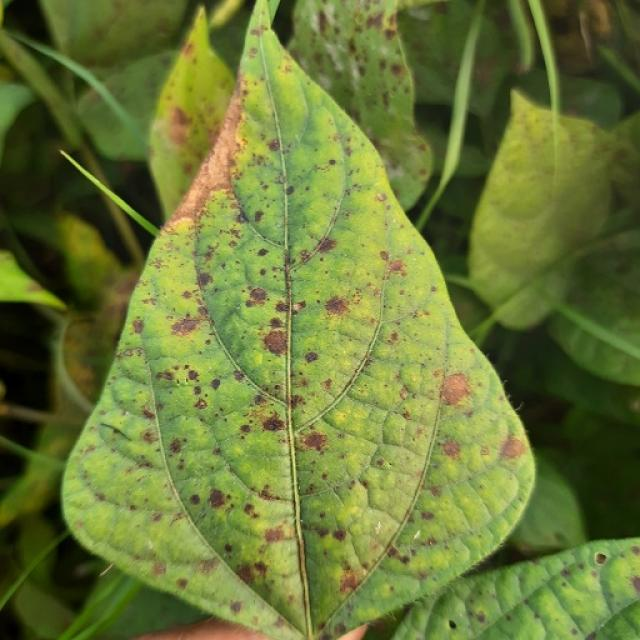Anthracnose: (259, 324, 295, 361), (440, 373, 470, 407), (171, 315, 205, 337), (169, 105, 191, 137), (166, 214, 196, 237), (500, 435, 525, 459), (300, 431, 328, 452), (324, 295, 350, 315), (338, 570, 359, 594), (263, 524, 288, 544), (235, 563, 256, 584), (257, 486, 286, 501), (207, 488, 227, 509), (365, 10, 385, 31), (441, 439, 461, 459), (197, 557, 219, 575), (313, 237, 336, 254), (262, 416, 285, 432), (248, 286, 267, 303), (317, 11, 330, 33), (196, 272, 213, 288), (387, 259, 405, 274), (130, 317, 144, 334), (152, 562, 167, 576), (332, 528, 346, 542), (275, 300, 290, 313), (251, 25, 267, 37), (267, 139, 281, 152), (390, 63, 403, 77), (594, 552, 608, 565), (194, 397, 207, 410), (230, 601, 243, 614), (236, 210, 248, 223), (187, 369, 199, 381), (475, 611, 486, 624), (292, 301, 305, 312), (420, 511, 434, 521), (253, 210, 264, 222), (210, 378, 221, 390), (176, 578, 188, 589), (257, 247, 269, 257), (379, 250, 389, 261), (376, 192, 387, 202), (634, 575, 640, 593), (561, 567, 571, 577), (285, 185, 294, 195), (224, 543, 233, 553), (590, 569, 599, 579), (448, 619, 457, 629), (328, 158, 336, 165), (635, 546, 640, 557)
Blackgram: (64, 0, 534, 639)
